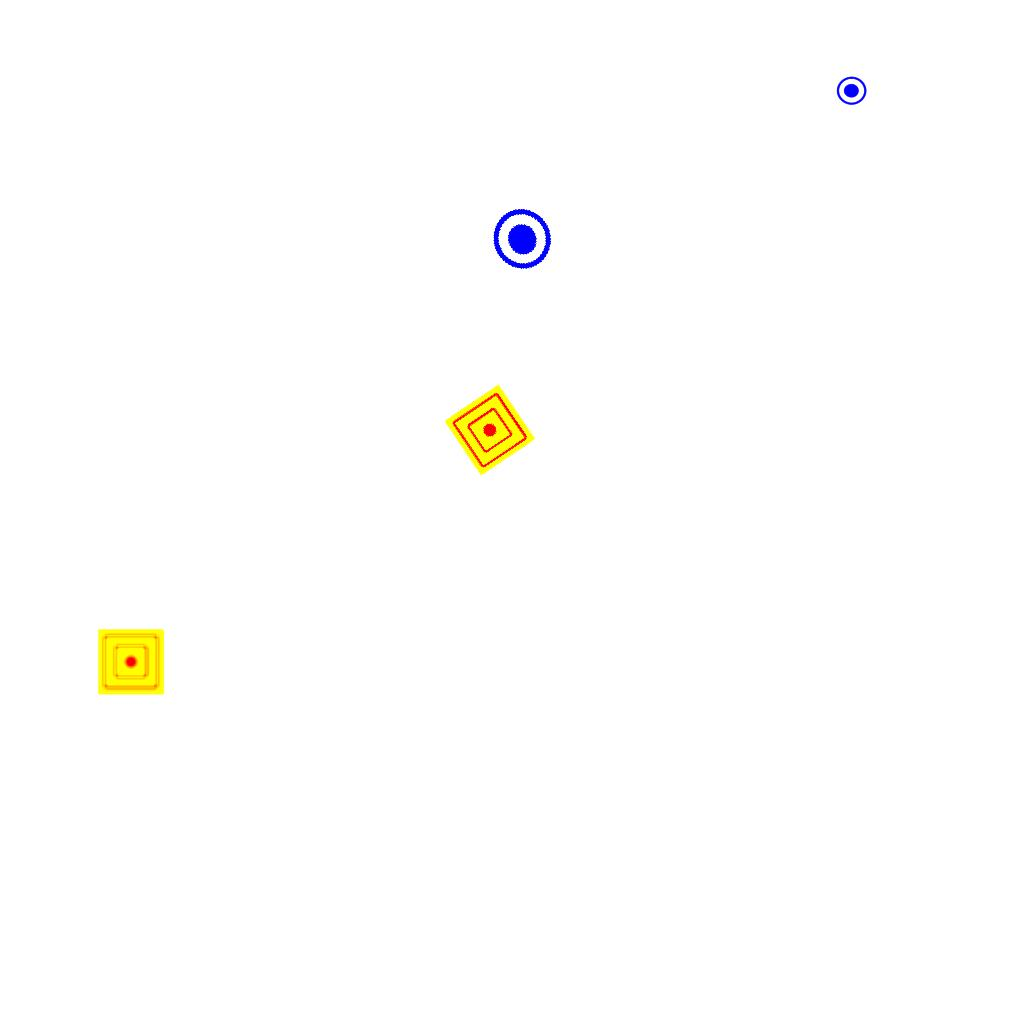NAM-Nichtautomatischer_Melder: (444, 384, 536, 476), (98, 629, 164, 695)
Taster: (477, 197, 563, 283), (835, 73, 868, 106)
